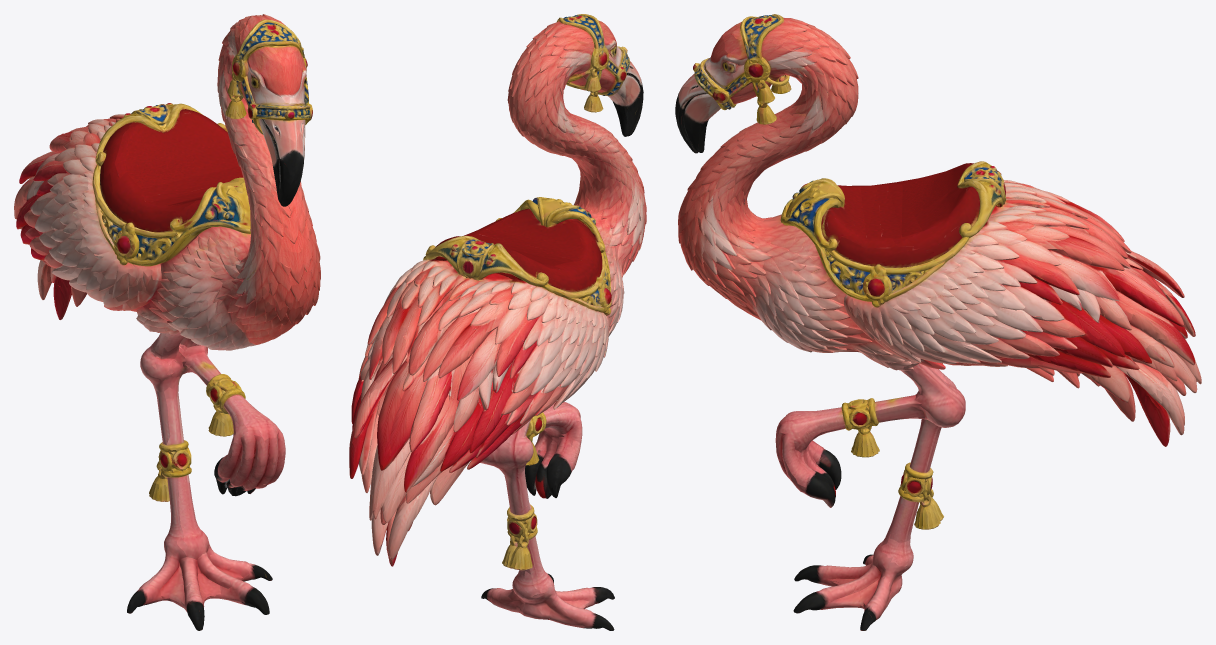
The model's file is flamingo.glb.
3 renders of one model, left to right at view 1: azimuth 30°, elevation 25°; view 2: azimuth 150°, elevation 25°; view 3: azimuth 270°, elevation 25°, orthographic. The views are drawn at different scales.
Bounding box in the file's own units: 0.6791 × 1.9 × 1.54.
Materials: 1 (1 with a texture image).
